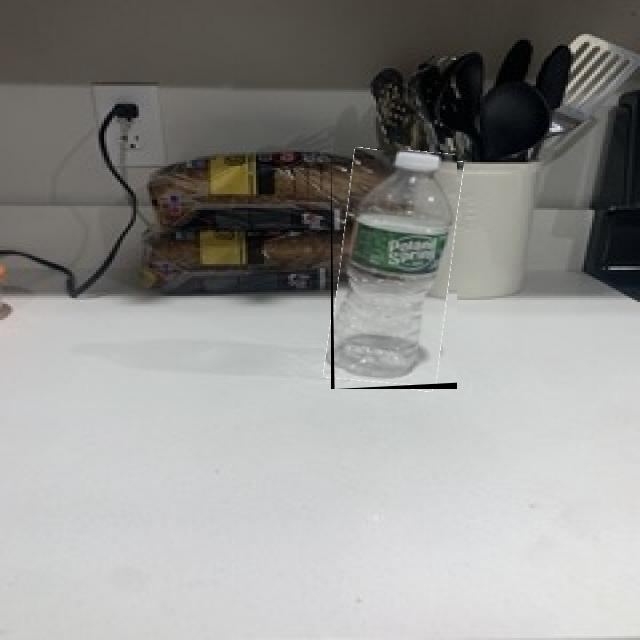water_bottle: (331, 150, 457, 389)
